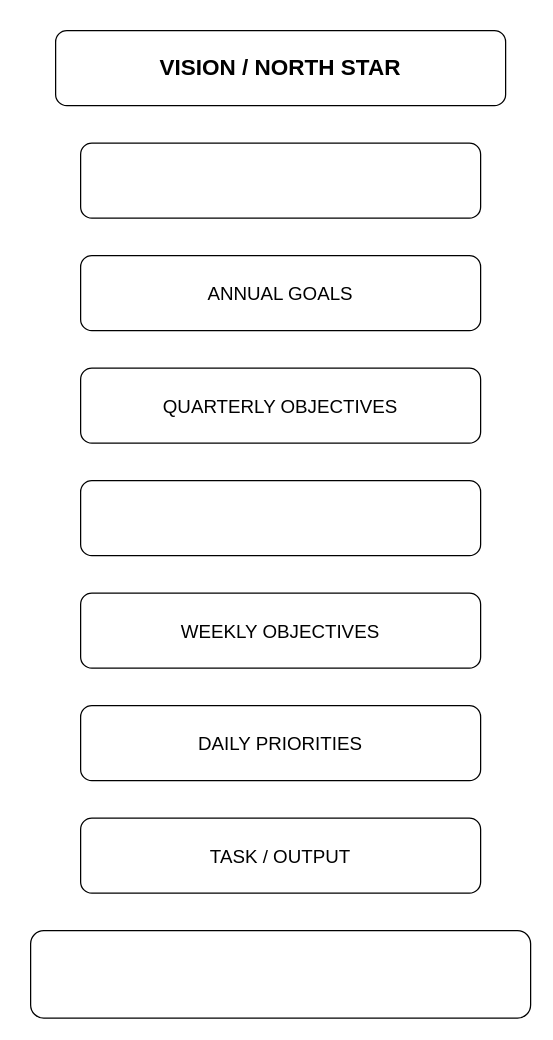
Image size: 553x1040. Some labels were removed from this diagram. Here are the shapes that lost their labels. From the top down, the box of each, then its label:
(79, 142, 481, 218): STRATEGY
(79, 479, 481, 556): MONTHLY TARGETS
(29, 929, 531, 1018): KPI / RESULT / EVIDENCE
